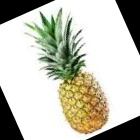Pineapple: (25, 10, 110, 135)
